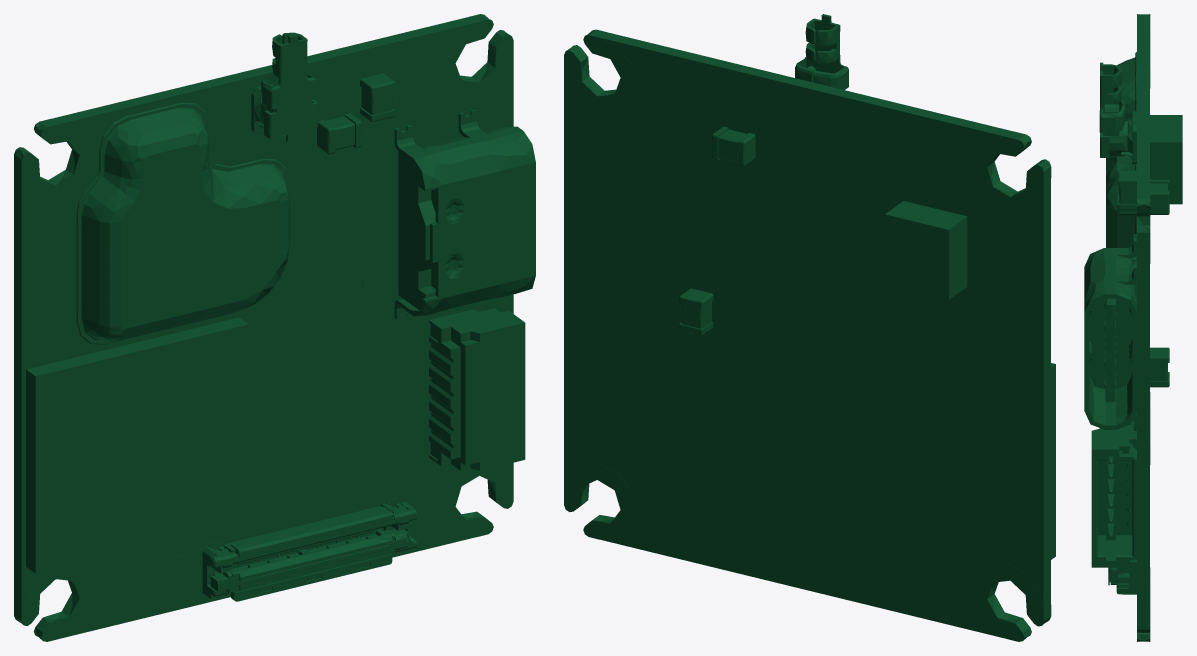
The model's file is o4_airunit.glb.
The picture shows the model from 3 angles, left to right: view 1: azimuth 30°, elevation 25°; view 2: azimuth 150°, elevation 25°; view 3: azimuth 270°, elevation 25°; orthographic projection. The views are drawn at different scales.
Visible parts, largest first — view 1: o4_airunit; view 2: o4_airunit; view 3: o4_airunit.
Part boxes in pixels (x1,y1,x2,y2): o4_airunit: (14, 14, 535, 641); o4_airunit: (564, 14, 1055, 641); o4_airunit: (1084, 14, 1182, 641).
Bounding box in the file's own units: 0.03 × 0.033 × 0.00604.
